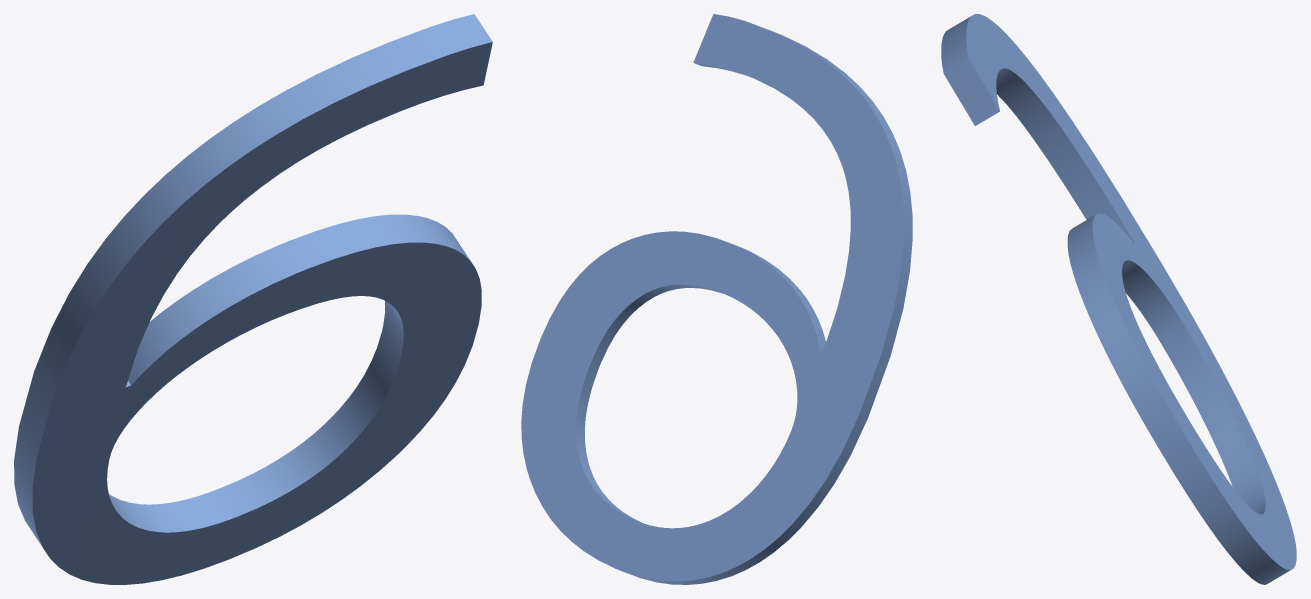
The model's file is New_Number_9.gltf.
The picture shows the model from 3 angles, left to right: view 1: azimuth 30°, elevation 25°; view 2: azimuth 150°, elevation 25°; view 3: azimuth 270°, elevation 25°; orthographic projection. The views are drawn at different scales.
Parts seen in each view (by area): view 1: Part 36; view 2: Part 36; view 3: Part 36.
Boxes of the visible parts, left/top/right/bottom form: Part 36: left=14, top=14, right=492, bottom=584; Part 36: left=521, top=14, right=912, bottom=584; Part 36: left=941, top=14, right=1296, bottom=584.
Bounding box in the file's own units: 0.00376 × 0.00514 × 0.00306.
